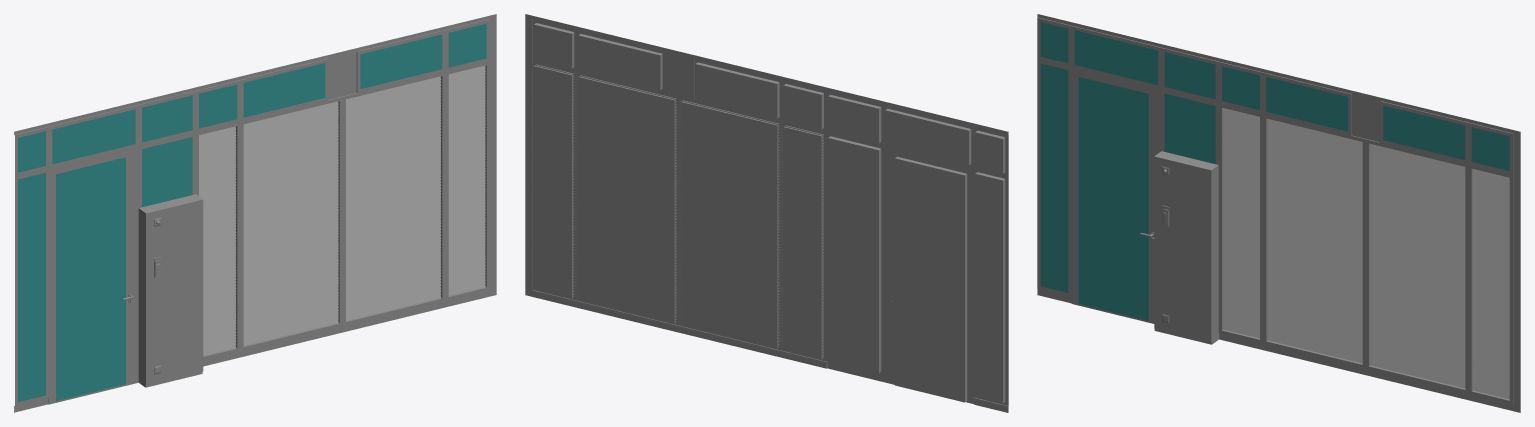
Rendered from Wall_Front.FBX.
3 renders of one model, left to right at view 1: azimuth 30°, elevation 25°; view 2: azimuth 150°, elevation 25°; view 3: azimuth 330°, elevation 25°, orthographic.
Parts seen in each view (by area): view 1: Plane002; view 2: Plane002; view 3: Plane002.
Part boxes in pixels (x1=…): Plane002: x1=14, y1=14, x2=496, y2=412; Plane002: x1=525, y1=14, x2=1008, y2=412; Plane002: x1=1037, y1=14, x2=1520, y2=412.
Size of the model in its own units: 239 by 133 by 9.41.
